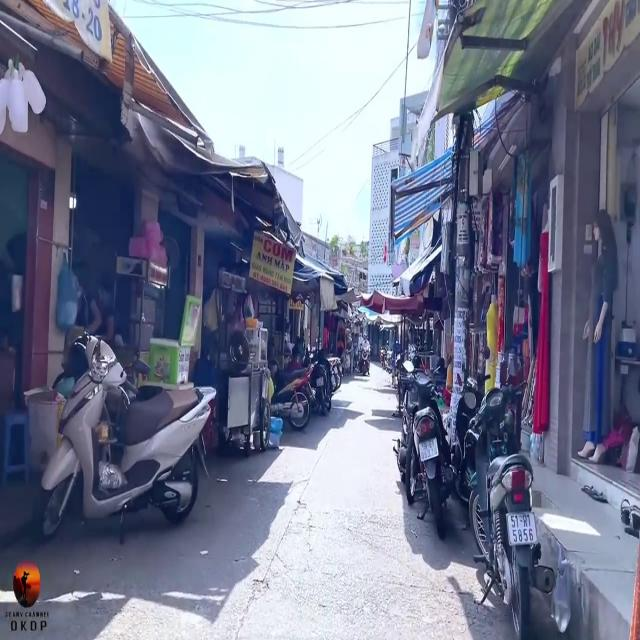bien_trang: (503, 509, 539, 550), (414, 436, 442, 463)
